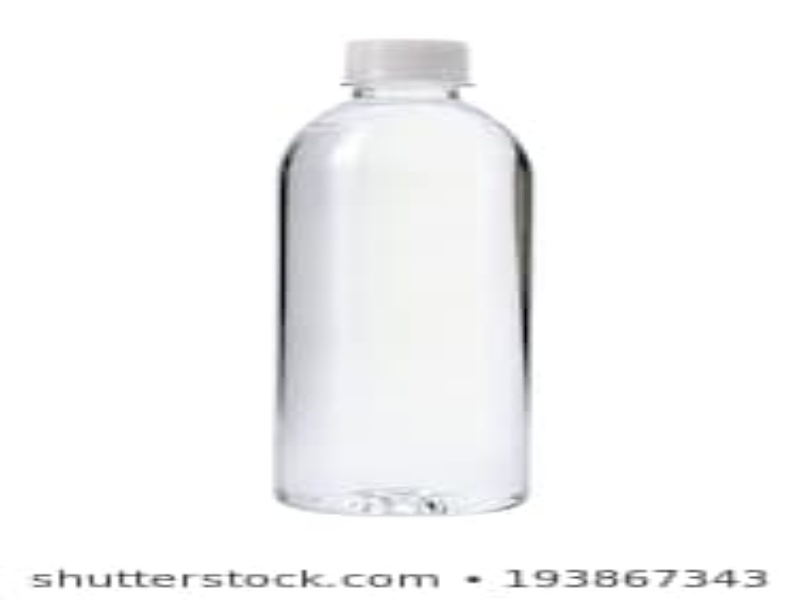bottle-cap: (334, 36, 474, 91)
plastic-bottle: (268, 33, 537, 523)
